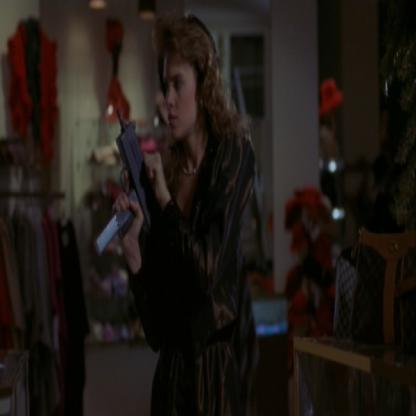Gun: (89, 101, 163, 269)
